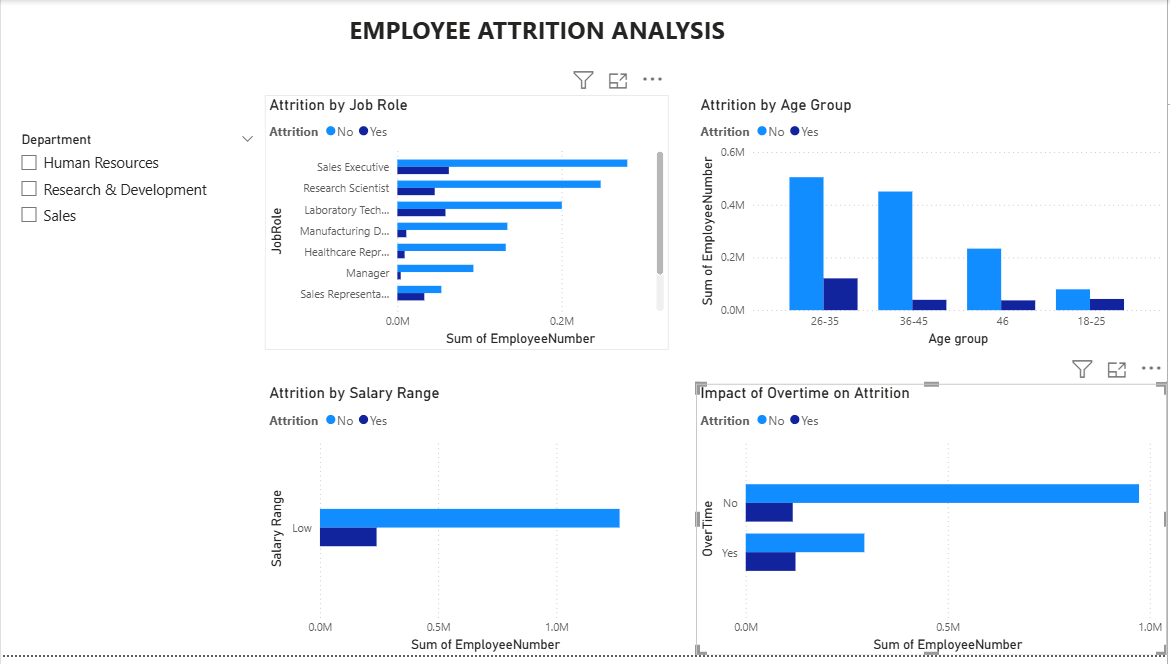

The page's visual inventory and layout, read from the dashboard file:
{"tool":"powerbi","page":{"name":"Employee Analysis","canvas":[1280,720],"ordinal":1},"visuals":[{"type":"clusteredBarChart","title":"Attrition by Job Role","fields":{"Category":["HR-Employee-Attrition.JobRole"],"Y":["Sum(HR-Employee-Attrition.EmployeeNumber)"],"Series":["HR-Employee-Attrition.Attrition"]},"box":[289.5,104.3,443.2,279.9],"z":0},{"type":"clusteredColumnChart","title":"Attrition by Age Group","fields":{"Category":["HR-Employee-Attrition.Age group"],"Y":["Sum(HR-Employee-Attrition.EmployeeNumber)"],"Series":["HR-Employee-Attrition.Attrition"]},"box":[763,104.3,517.3,279.9],"z":1000},{"type":"clusteredBarChart","title":"Attrition by Salary Range","fields":{"Category":["HR-Employee-Attrition.Salary Range"],"Y":["Sum(HR-Employee-Attrition.EmployeeNumber)"],"Series":["HR-Employee-Attrition.Attrition"]},"box":[289.5,421.3,443.2,299.1],"z":2000},{"type":"clusteredBarChart","title":"Impact of Overtime on Attrition","fields":{"Category":["HR-Employee-Attrition.OverTime"],"Y":["Sum(HR-Employee-Attrition.EmployeeNumber)"],"Series":["HR-Employee-Attrition.Attrition"]},"box":[763,421.3,517.3,299.1],"z":3000},{"type":"slicer","fields":{"Values":["HR-Employee-Attrition.Department"]},"box":[9.6,140,279.9,140],"z":4000},{"type":"textbox","box":[377.4,9.6,500.9,59],"z":5000}]}

Visuals, with their boxes in screenshot pixels (x1, y1, x2, y2), scaled from the page's 1280x720 canvas onto the 1170x664 screenshot:
"Attrition by Job Role" clusteredBarChart: l=265, t=96, r=670, b=354
"Attrition by Age Group" clusteredColumnChart: l=697, t=96, r=1169, b=354
"Attrition by Salary Range" clusteredBarChart: l=265, t=389, r=670, b=663
"Impact of Overtime on Attrition" clusteredBarChart: l=697, t=389, r=1169, b=663
slicer - HR-Employee-Attrition.Department: l=9, t=129, r=265, b=258
textbox: l=345, t=9, r=803, b=63
